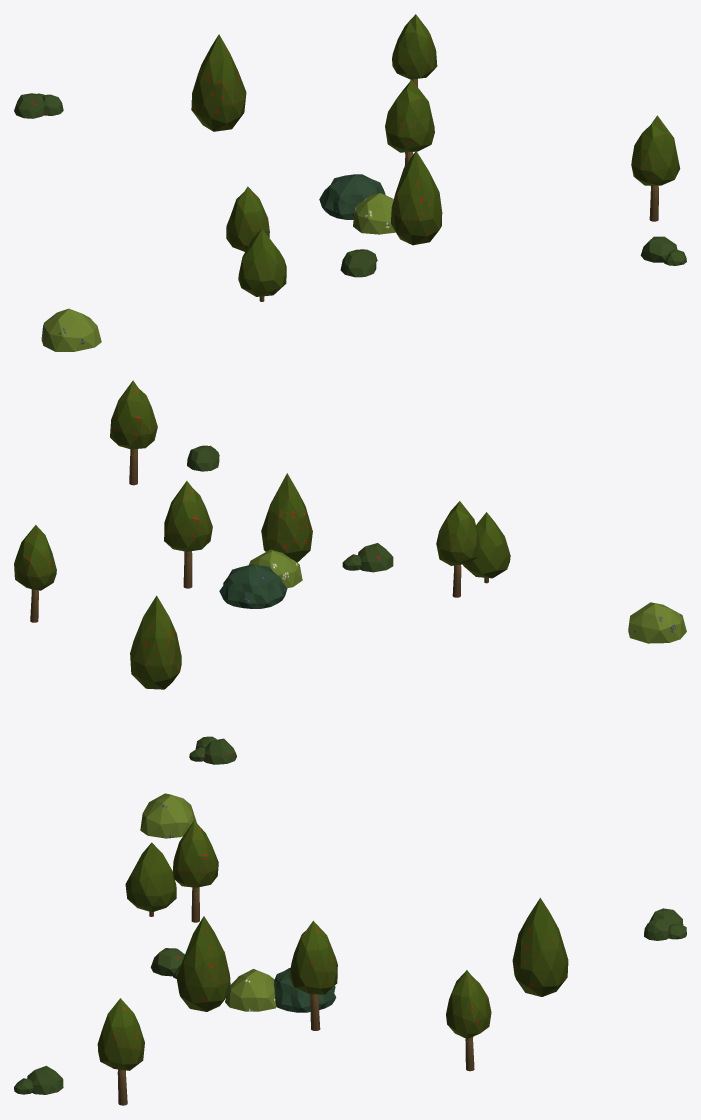
Rendered from Bushes7.gltf.
3 renders of one model, top to bottom at view 1: azimuth 30°, elevation 25°; view 2: azimuth 150°, elevation 25°; view 3: azimuth 270°, elevation 25°, orthographic. The views are drawn at different scales.
Visible parts, largest first — view 1: Hollytree3 - copy.019, Hollytree3 - copy.024, Hollytree1 - copy.006, Hollytree1 - copy.025, Hollytree2 - copy.026, Hollytree1 - copy.017, ElderberryBush2 - copy.001, JuniperBush1 - copy.001, Hollytree1 - copy.024, ElderberryBush1 - copy.001, StrawberryBush3 - copy.005, StrawberryBush1 - copy.022 (+1 smaller); view 2: Hollytree3 - copy.019, Hollytree3 - copy.024, Hollytree1 - copy.025, Hollytree1 - copy.006, JuniperBush1 - copy.001, Hollytree1 - copy.024, Hollytree1 - copy.017, ElderberryBush2 - copy.001, Hollytree2 - copy.026, StrawberryBush2 - copy.014, ElderberryBush1 - copy.001, StrawberryBush3 - copy.005 (+1 smaller); view 3: Hollytree3 - copy.019, Hollytree3 - copy.024, Hollytree1 - copy.025, Hollytree1 - copy.006, Hollytree1 - copy.024, Hollytree1 - copy.017, Hollytree2 - copy.026, ElderberryBush2 - copy.001, ElderberryBush1 - copy.001, JuniperBush1 - copy.001, StrawberryBush3 - copy.005, StrawberryBush1 - copy.022 (+1 smaller).
Part boxes in pixels (bbox=[...]): Hollytree3 - copy.019: bbox=[191, 34, 246, 131]; Hollytree3 - copy.024: bbox=[391, 151, 442, 245]; Hollytree1 - copy.006: bbox=[631, 115, 680, 221]; Hollytree1 - copy.025: bbox=[385, 79, 434, 166]; Hollytree2 - copy.026: bbox=[238, 228, 286, 301]; Hollytree1 - copy.017: bbox=[392, 14, 437, 86]; ElderberryBush2 - copy.001: bbox=[41, 308, 101, 351]; JuniperBush1 - copy.001: bbox=[319, 174, 385, 219]; Hollytree1 - copy.024: bbox=[226, 186, 269, 251]; ElderberryBush1 - copy.001: bbox=[353, 193, 395, 234]; StrawberryBush3 - copy.005: bbox=[14, 93, 63, 118]; StrawberryBush1 - copy.022: bbox=[640, 236, 686, 265]; Hollytree3 - copy.019: bbox=[130, 595, 181, 689]; Hollytree3 - copy.024: bbox=[261, 473, 312, 562]; Hollytree1 - copy.025: bbox=[164, 481, 212, 588]; Hollytree1 - copy.006: bbox=[110, 380, 157, 485]; JuniperBush1 - copy.001: bbox=[219, 564, 287, 608]; Hollytree1 - copy.024: bbox=[436, 501, 479, 597]; Hollytree1 - copy.017: bbox=[14, 525, 56, 622]; ElderberryBush2 - copy.001: bbox=[628, 602, 686, 643]; Hollytree2 - copy.026: bbox=[463, 512, 510, 583]; StrawberryBush2 - copy.014: bbox=[342, 543, 393, 572]; ElderberryBush1 - copy.001: bbox=[249, 549, 302, 588]; StrawberryBush3 - copy.005: bbox=[189, 736, 236, 764]; Hollytree3 - copy.019: bbox=[512, 897, 568, 996]; Hollytree3 - copy.024: bbox=[176, 916, 230, 1011]; Hollytree1 - copy.025: bbox=[289, 920, 337, 1030]; Hollytree1 - copy.006: bbox=[97, 998, 144, 1105]; Hollytree1 - copy.024: bbox=[172, 820, 218, 922]; Hollytree1 - copy.017: bbox=[446, 970, 491, 1071]; Hollytree2 - copy.026: bbox=[125, 842, 176, 916]; ElderberryBush2 - copy.001: bbox=[140, 793, 196, 838]; ElderberryBush1 - copy.001: bbox=[225, 969, 276, 1011]; JuniperBush1 - copy.001: bbox=[274, 968, 336, 1012]; StrawberryBush3 - copy.005: bbox=[644, 908, 686, 940]; StrawberryBush1 - copy.022: bbox=[14, 1065, 63, 1094].
Bounding box in the file's own units: 25.85 × 4.45 × 24.4.
9 materials, 9 textured.
